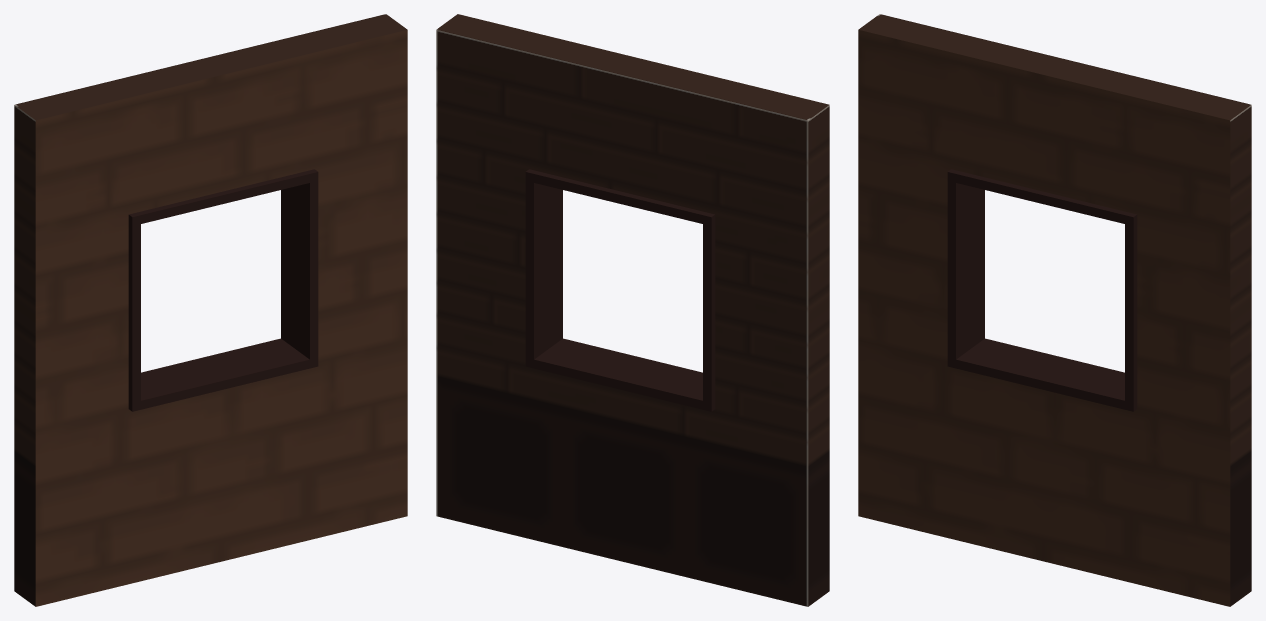
File: Wall_window.fbx
The picture shows the model from 3 angles, left to right: view 1: azimuth 30°, elevation 25°; view 2: azimuth 150°, elevation 25°; view 3: azimuth 330°, elevation 25°; orthographic projection.
Visible parts, largest first — view 1: Window wall; view 2: Window wall; view 3: Window wall.
Part boxes in pixels (x1=…): Window wall: x1=14, y1=14, x2=407, y2=606; Window wall: x1=436, y1=14, x2=829, y2=606; Window wall: x1=858, y1=14, x2=1251, y2=606.
Size of the model in its own units: 2 by 2.5 by 0.269.
